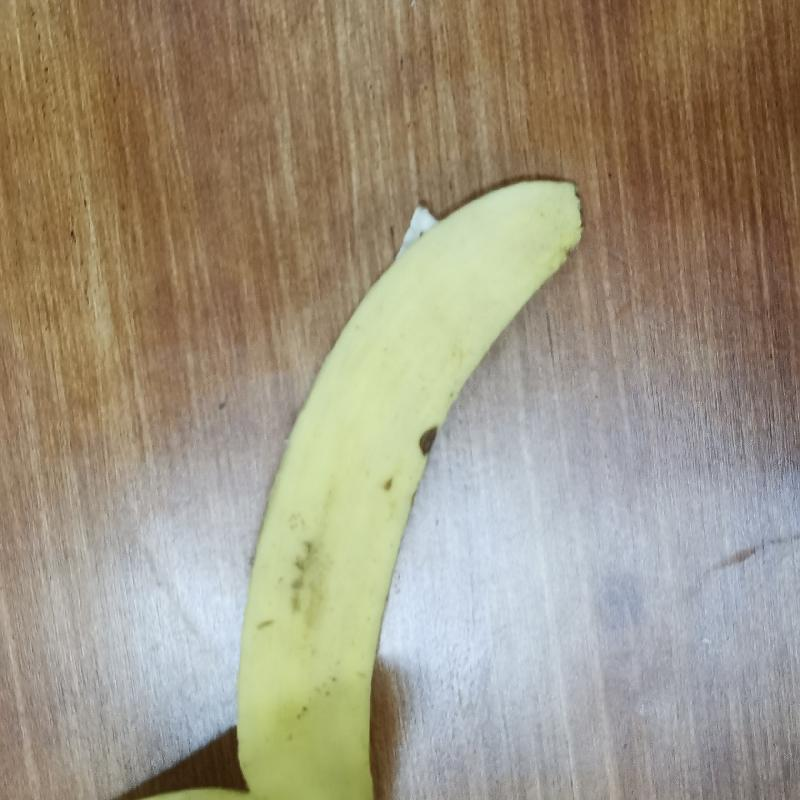bananas: (204, 177, 629, 799)
